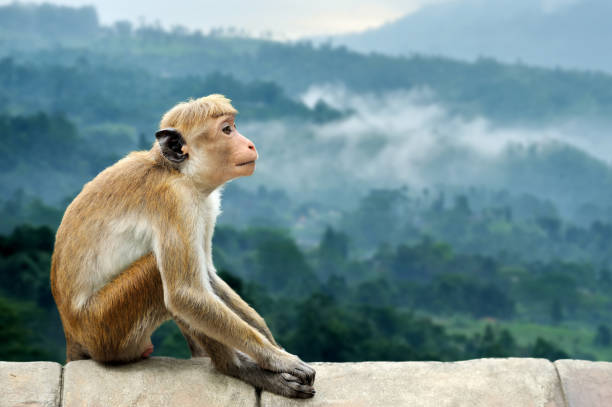Monkey: (38, 78, 324, 407)
